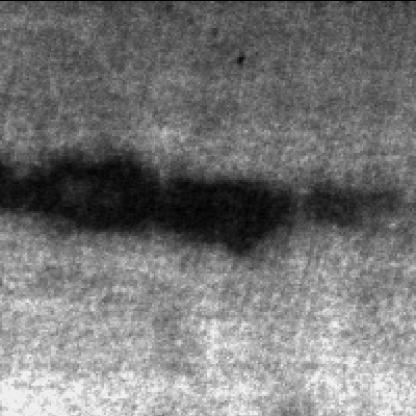patches: (4, 158, 304, 254)
